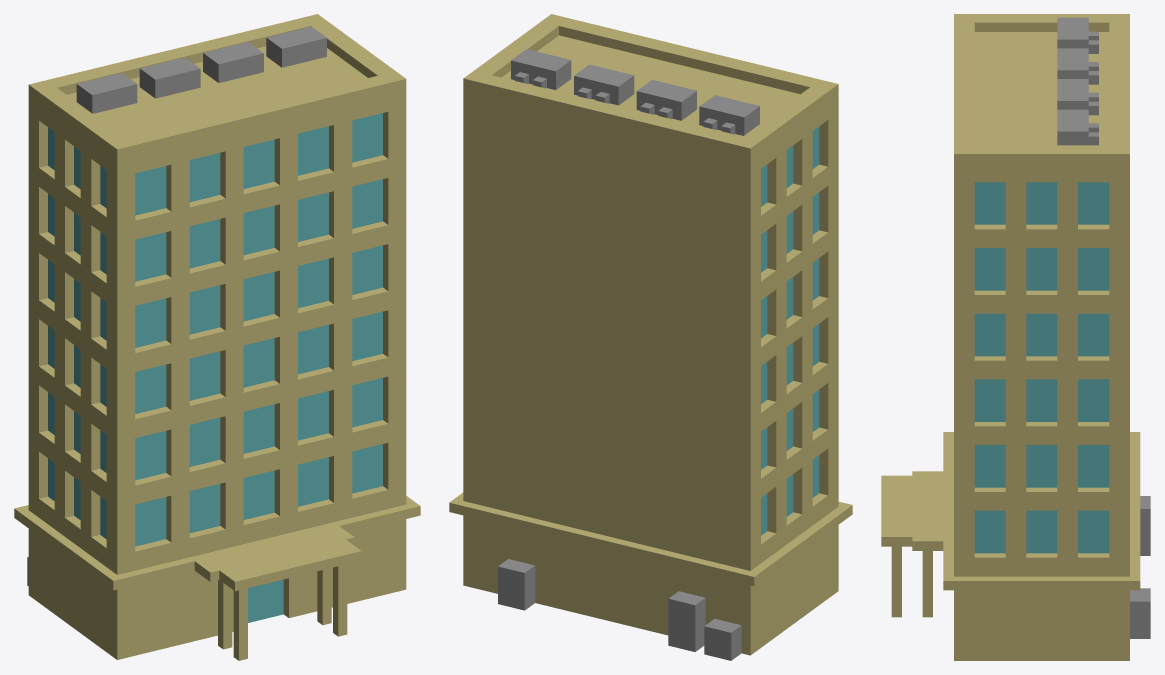
File: Building08.fbx
The picture shows the model from 3 angles, left to right: view 1: azimuth 30°, elevation 25°; view 2: azimuth 150°, elevation 25°; view 3: azimuth 270°, elevation 25°; orthographic projection.
Visible parts, largest first — view 1: ObjObject.011; view 2: ObjObject.011; view 3: ObjObject.011.
Part boxes in pixels (<box>): ObjObject.011: <box>14,14,420,660</box>; ObjObject.011: <box>449,14,852,660</box>; ObjObject.011: <box>881,14,1150,660</box>.
Size of the model in its own units: 340 by 260 by 550.
1 material, 1 textured.
